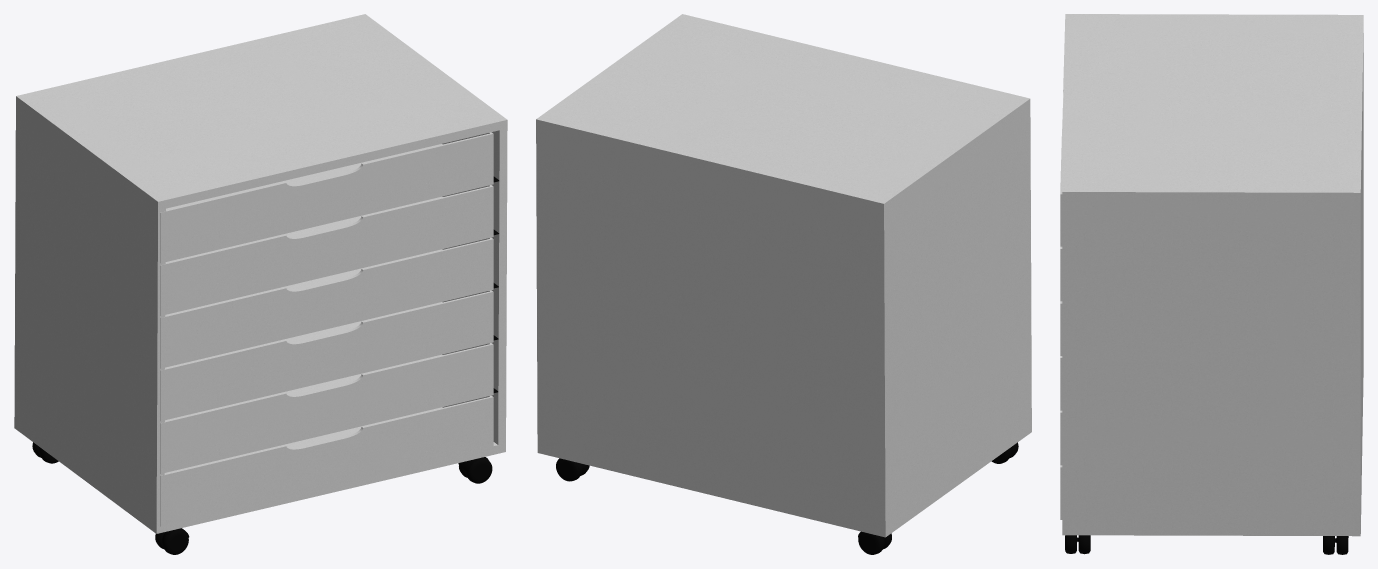
The model's file is IKEA-Alex_drawer_white-3D.FBX.
3 renders of one model, left to right at view 1: azimuth 30°, elevation 25°; view 2: azimuth 150°, elevation 25°; view 3: azimuth 270°, elevation 25°, orthographic. The views are drawn at different scales.
Parts seen in each view (by area): view 1: Rectangle06; view 2: Rectangle06; view 3: Rectangle06.
Part boxes in pixels (left/top/right/bottom): Rectangle06: left=14, top=14, right=507, bottom=554; Rectangle06: left=536, top=14, right=1031, bottom=554; Rectangle06: left=1060, top=14, right=1363, bottom=554.
Size of the model in its own units: 0.6764 by 0.4882 by 0.6654.
Materials: 2 (1 with a texture image).
